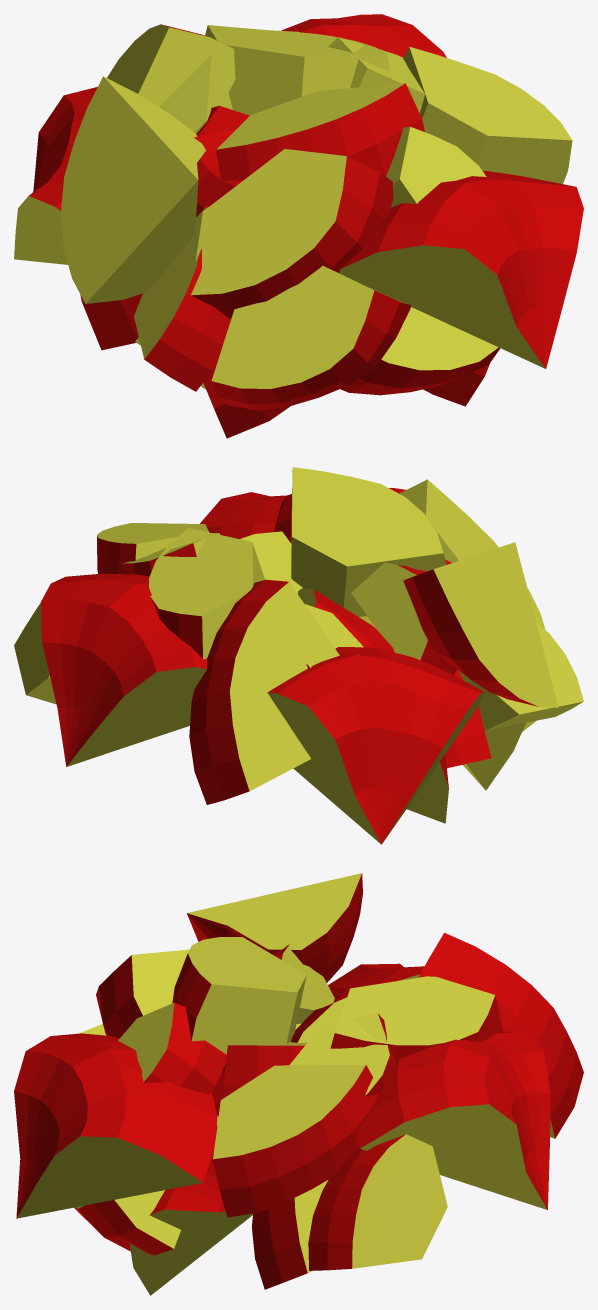
File: BowlContent1.obj
3 views of the same model, one above another, from view 1: azimuth 30°, elevation 25°; view 2: azimuth 150°, elevation 25°; view 3: azimuth 270°, elevation 25° (orthographic). The views are drawn at different scales.
Visible parts, largest first — view 1: Bouncing_apple.018_Cylinder.014, Bouncing_apple.015_Cylinder.014, Bouncing_apple.013_Cylinder.015, Bouncing_apple.026_Cylinder.015, Bouncing_apple.017_Cylinder.005, Bouncing_apple.014_Cylinder.005, Bouncing_apple.007_Cylinder.015, Bouncing_apple.011_Cylinder.005, Bouncing_apple.029_Cylinder.015, Bouncing_apple.009_Cylinder.014, Bouncing_apple.005_Cylinder.005, Bouncing_apple.019_Cylinder.015 (+7 smaller); view 2: Bouncing_apple.009_Cylinder.014, Bouncing_apple.006_Cylinder.014, Bouncing_apple.005_Cylinder.005, Bouncing_apple.015_Cylinder.014, Bouncing_apple.014_Cylinder.005, Bouncing_apple.007_Cylinder.015, Bouncing_apple.012_Cylinder.014, Bouncing_apple.011_Cylinder.005, Bouncing_apple.013_Cylinder.015, Bouncing_apple.022_Cylinder.014, Bouncing_apple.017_Cylinder.005, Bouncing_apple.018_Cylinder.014 (+7 smaller); view 3: Bouncing_apple.018_Cylinder.014, Bouncing_apple.006_Cylinder.014, Bouncing_apple.017_Cylinder.005, Bouncing_apple.020_Cylinder.005, Bouncing_apple.014_Cylinder.005, Bouncing_apple.015_Cylinder.014, Bouncing_apple.007_Cylinder.015, Bouncing_apple.005_Cylinder.005, Bouncing_apple.028_Cylinder.014, Bouncing_apple.019_Cylinder.015, Bouncing_apple.013_Cylinder.015, Bouncing_apple.030_Cylinder.005 (+6 smaller).
Part boxes in pixels (x1,y1,x2,y2): Bouncing_apple.018_Cylinder.014: [339, 171, 583, 368]; Bouncing_apple.015_Cylinder.014: [61, 76, 205, 303]; Bouncing_apple.013_Cylinder.015: [191, 149, 393, 318]; Bouncing_apple.026_Cylinder.015: [211, 265, 410, 410]; Bouncing_apple.017_Cylinder.005: [403, 46, 572, 183]; Bouncing_apple.014_Cylinder.005: [216, 83, 424, 181]; Bouncing_apple.007_Cylinder.015: [205, 25, 389, 115]; Bouncing_apple.011_Cylinder.005: [134, 206, 230, 391]; Bouncing_apple.029_Cylinder.015: [340, 287, 500, 395]; Bouncing_apple.009_Cylinder.014: [14, 87, 97, 264]; Bouncing_apple.005_Cylinder.005: [107, 24, 235, 106]; Bouncing_apple.019_Cylinder.015: [386, 126, 486, 207]; Bouncing_apple.009_Cylinder.014: [267, 647, 484, 844]; Bouncing_apple.006_Cylinder.014: [41, 573, 206, 766]; Bouncing_apple.005_Cylinder.005: [189, 579, 339, 804]; Bouncing_apple.015_Cylinder.014: [403, 542, 558, 707]; Bouncing_apple.014_Cylinder.005: [291, 467, 446, 616]; Bouncing_apple.007_Cylinder.015: [149, 528, 264, 659]; Bouncing_apple.012_Cylinder.014: [351, 560, 456, 674]; Bouncing_apple.011_Cylinder.005: [459, 622, 583, 730]; Bouncing_apple.013_Cylinder.015: [399, 479, 545, 629]; Bouncing_apple.022_Cylinder.014: [298, 588, 448, 823]; Bouncing_apple.017_Cylinder.005: [97, 523, 208, 574]; Bouncing_apple.018_Cylinder.014: [200, 488, 405, 538]; Bouncing_apple.018_Cylinder.014: [14, 1033, 217, 1218]; Bouncing_apple.006_Cylinder.014: [356, 1031, 550, 1209]; Bouncing_apple.017_Cylinder.005: [213, 1064, 378, 1217]; Bouncing_apple.020_Cylinder.005: [308, 1134, 447, 1270]; Bouncing_apple.014_Cylinder.005: [172, 937, 306, 1054]; Bouncing_apple.015_Cylinder.014: [187, 873, 362, 982]; Bouncing_apple.007_Cylinder.015: [330, 976, 503, 1062]; Bouncing_apple.005_Cylinder.005: [418, 933, 583, 1138]; Bouncing_apple.028_Cylinder.014: [129, 1115, 252, 1295]; Bouncing_apple.019_Cylinder.015: [118, 1002, 226, 1094]; Bouncing_apple.013_Cylinder.015: [96, 949, 189, 1038]; Bouncing_apple.030_Cylinder.005: [252, 1179, 328, 1289].
Size of the model in its own units: 1.07 by 0.6182 by 1.05.
